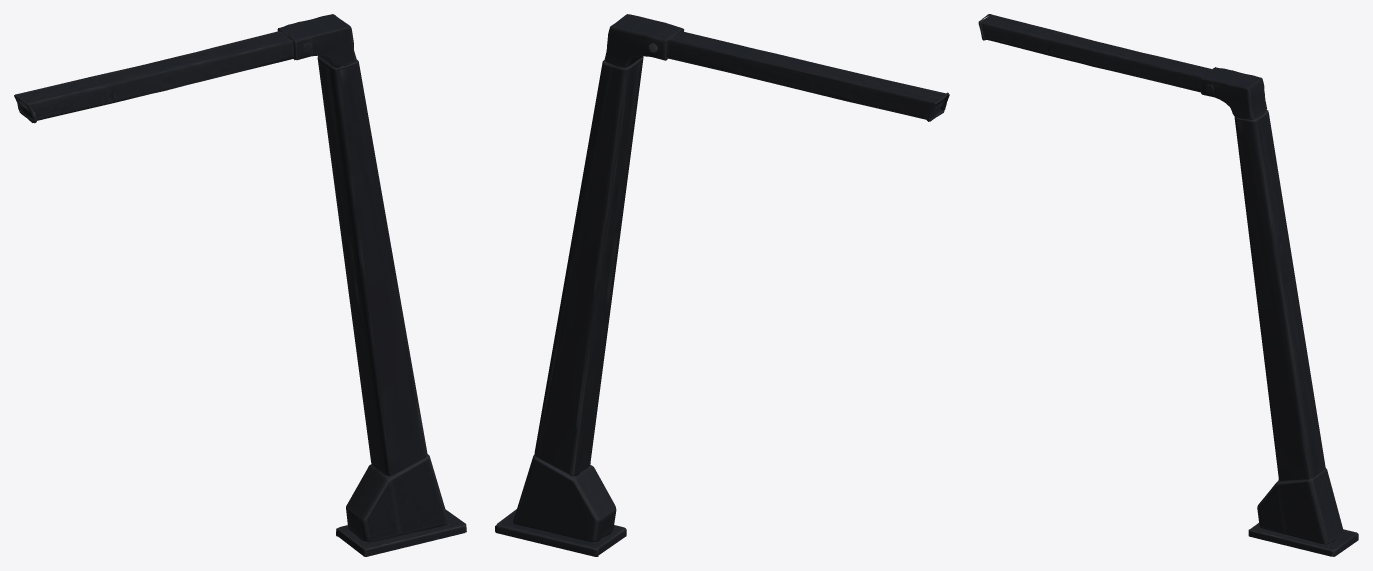
File: street_lamp.glb
The picture shows the model from 3 angles, left to right: view 1: azimuth 30°, elevation 25°; view 2: azimuth 150°, elevation 25°; view 3: azimuth 330°, elevation 25°; orthographic projection. The views are drawn at different scales.
Bounding box in the file's own units: 0.8616 × 1 × 0.1049.
1 material, 1 textured.
